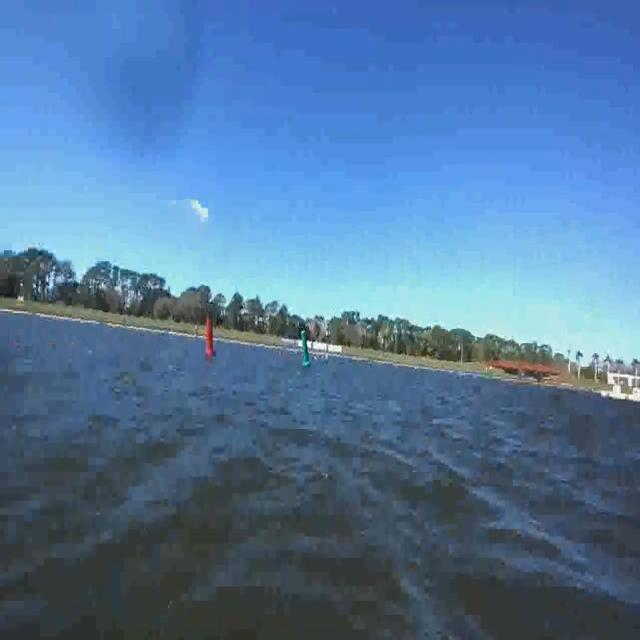green-column-buoy: (301, 330, 313, 369)
red-column-buoy: (205, 317, 217, 357)
